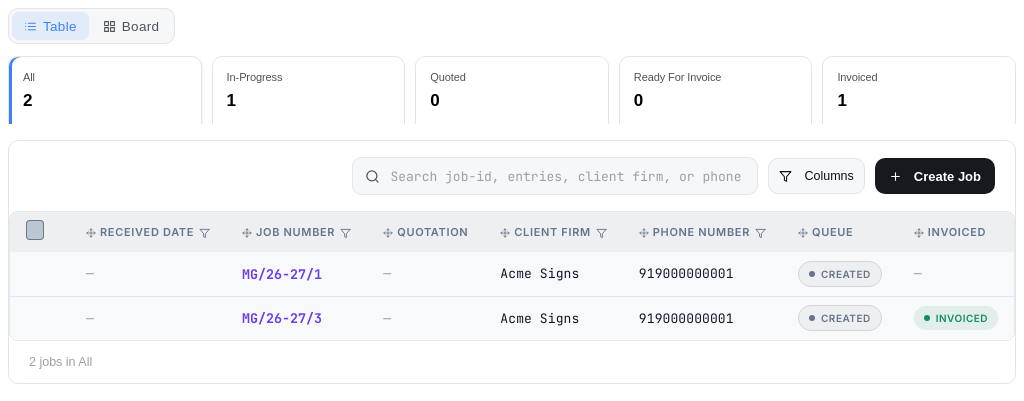
the Table / Board switch › keeps a fully invoiced job off the board while the table still lists it
Expected: the button "MG/26-27/3" is shown, 242,309 -> 322,327
Click the tab "Board": (131,26) 91,12 -> 171,40
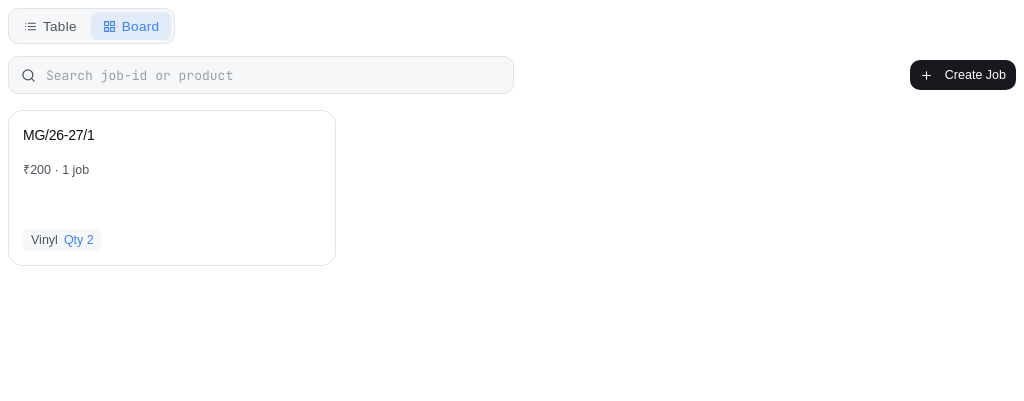
Expected: the text "MG/26-27/1" is shown, 23,125 -> 94,145
Expected: the button "MG/26-27/3" is gone
